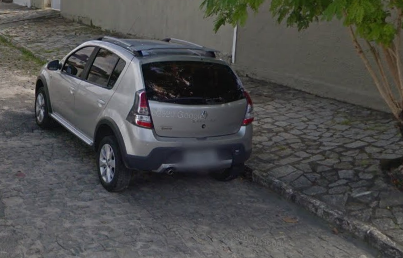car: (29, 27, 256, 194)
